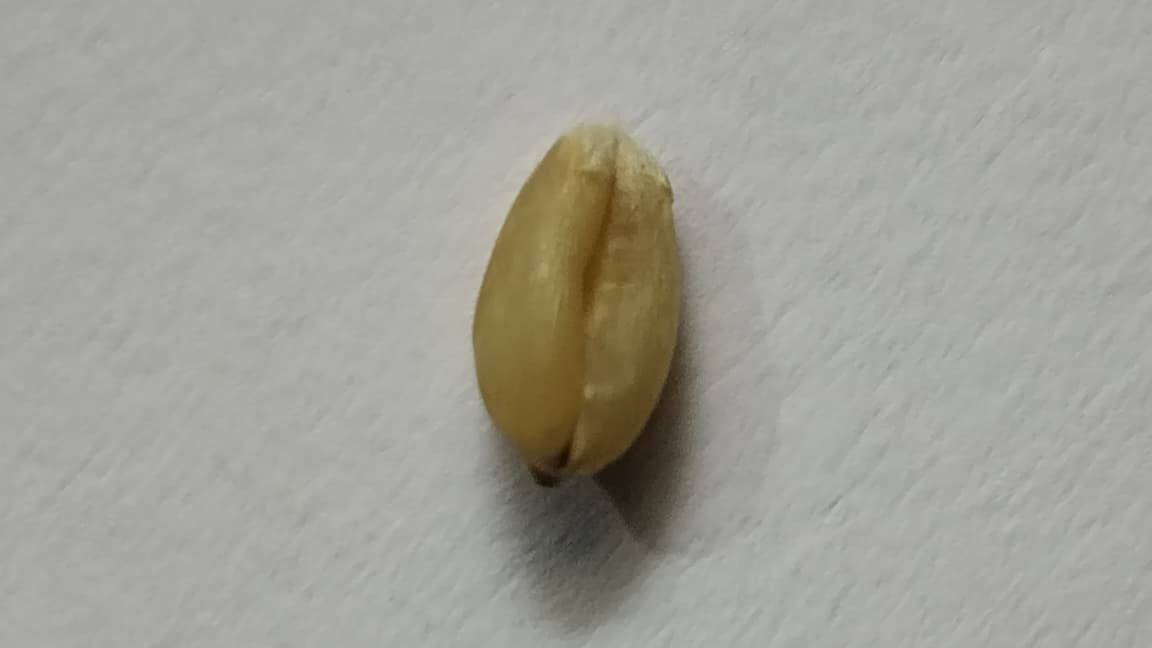healthy: (473, 126, 680, 476)
